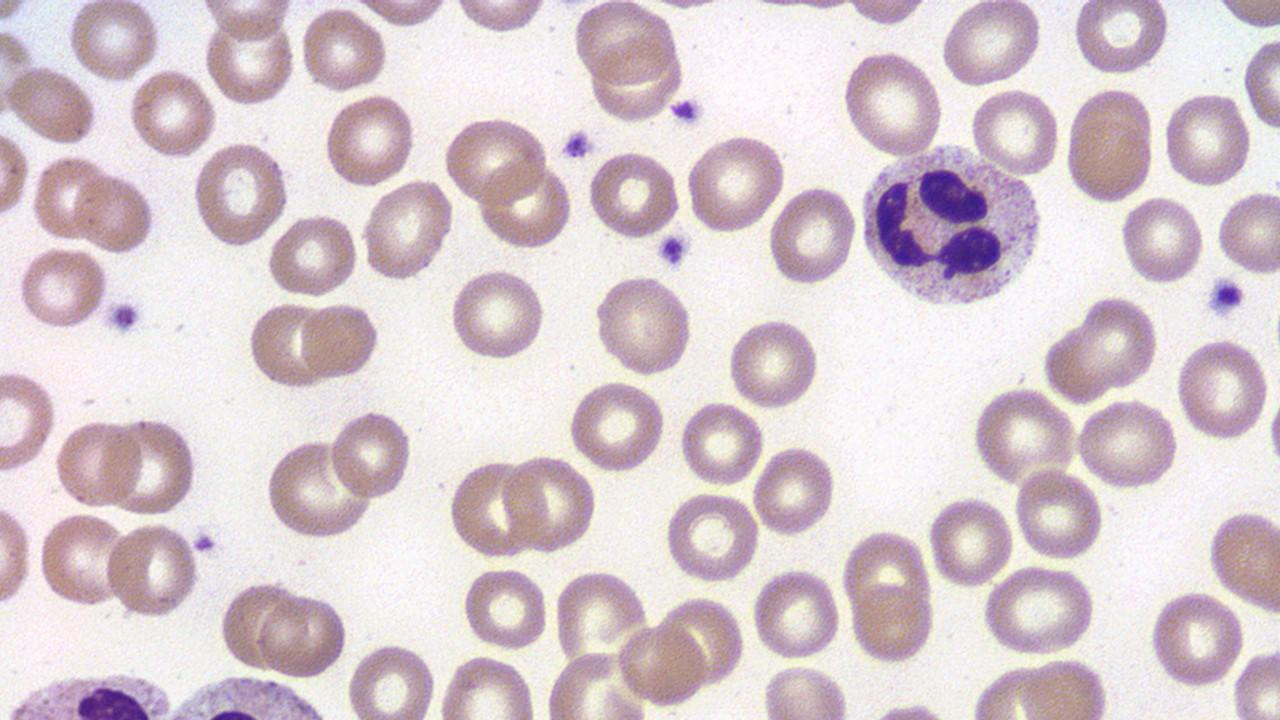Platelets: (1205, 274, 1247, 318), (101, 296, 146, 337), (656, 230, 692, 270), (665, 96, 706, 128), (560, 127, 595, 164), (190, 528, 222, 558)
RBC: (838, 47, 944, 158), (263, 438, 374, 542), (969, 384, 1079, 488), (1062, 84, 1156, 205), (591, 271, 696, 379), (551, 566, 653, 676), (980, 563, 1098, 657), (1171, 335, 1273, 442), (190, 140, 289, 250), (1060, 292, 1164, 396), (685, 131, 788, 236), (1072, 394, 1180, 492), (358, 178, 456, 282), (442, 112, 550, 206), (566, 378, 669, 476), (446, 266, 550, 363), (1147, 588, 1247, 688), (500, 452, 598, 554), (105, 518, 201, 622), (765, 182, 858, 288), (108, 414, 200, 518), (320, 92, 417, 190), (724, 315, 822, 412), (447, 456, 538, 560), (938, 0, 1043, 90), (200, 12, 298, 108), (1160, 88, 1252, 190), (36, 510, 128, 610), (586, 147, 682, 242), (664, 490, 760, 584), (1012, 466, 1106, 562), (570, 1, 678, 84), (926, 491, 1015, 589), (258, 588, 350, 682), (752, 566, 842, 662), (52, 415, 142, 511), (265, 209, 361, 299), (476, 164, 574, 252), (750, 442, 838, 540), (968, 86, 1062, 177), (126, 66, 217, 159), (15, 244, 110, 333), (676, 397, 766, 490), (1118, 192, 1206, 287), (584, 38, 685, 120), (328, 407, 412, 505), (298, 4, 388, 95), (614, 621, 707, 707), (1205, 506, 1279, 614), (462, 562, 550, 652), (66, 2, 162, 84), (219, 577, 300, 672), (3, 65, 98, 146), (847, 580, 936, 666), (246, 300, 330, 391), (1072, 0, 1172, 76), (345, 637, 438, 718), (31, 151, 109, 244), (74, 169, 157, 256), (436, 650, 542, 718), (300, 299, 382, 382), (0, 365, 58, 476), (1012, 650, 1112, 712), (1214, 189, 1280, 278), (758, 660, 853, 716), (196, 1, 294, 43), (1241, 33, 1279, 134), (1230, 644, 1280, 718), (0, 498, 32, 613), (0, 26, 39, 120), (451, 0, 551, 35), (0, 123, 31, 228), (352, 0, 455, 29), (839, 0, 932, 28), (1212, 0, 1280, 29)
WBC: (855, 138, 1048, 314), (144, 672, 353, 718), (0, 670, 190, 718)
